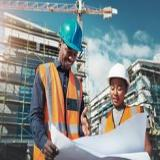Helmet: (60, 16, 84, 52), (107, 63, 131, 88)
Vest: (32, 62, 83, 160), (99, 104, 147, 160)
